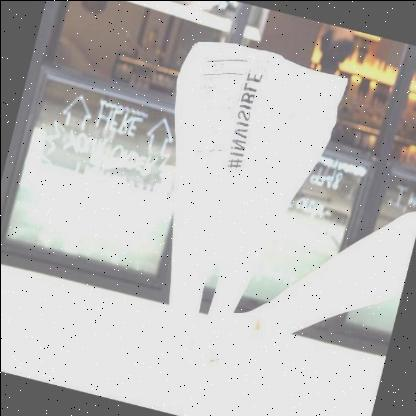Others: (165, 38, 347, 372)
